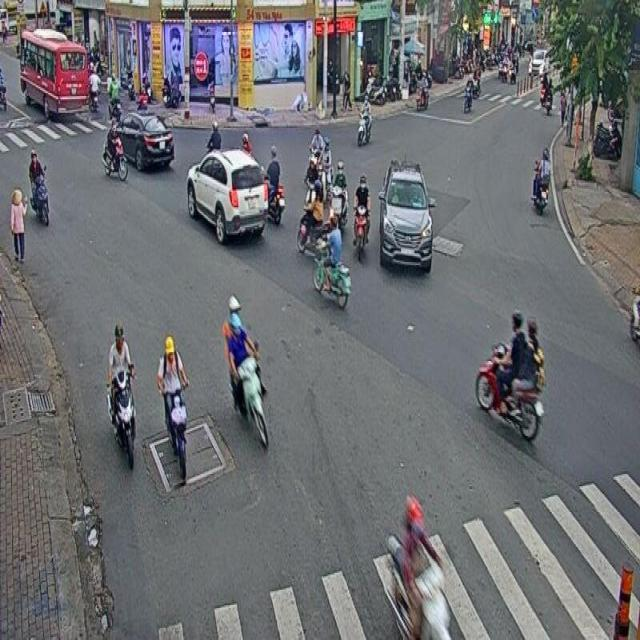car: (186, 146, 267, 241), (378, 160, 437, 270), (120, 112, 174, 170)
motorcycle: (474, 308, 544, 442), (222, 294, 268, 450), (157, 336, 188, 478), (106, 323, 136, 466), (312, 216, 350, 308), (28, 148, 49, 227), (102, 120, 128, 182), (352, 174, 370, 260), (530, 146, 550, 214), (329, 158, 348, 220), (357, 94, 371, 145)
